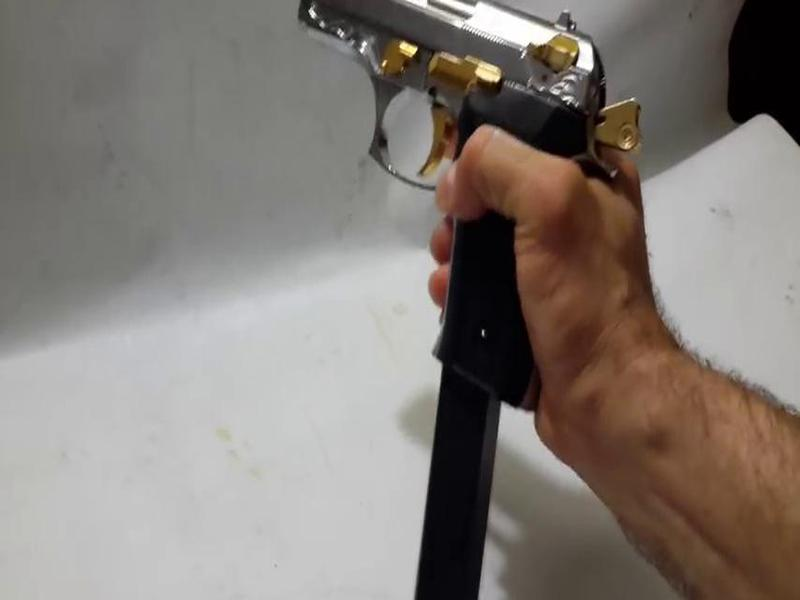Pistola: (272, 1, 639, 401)
